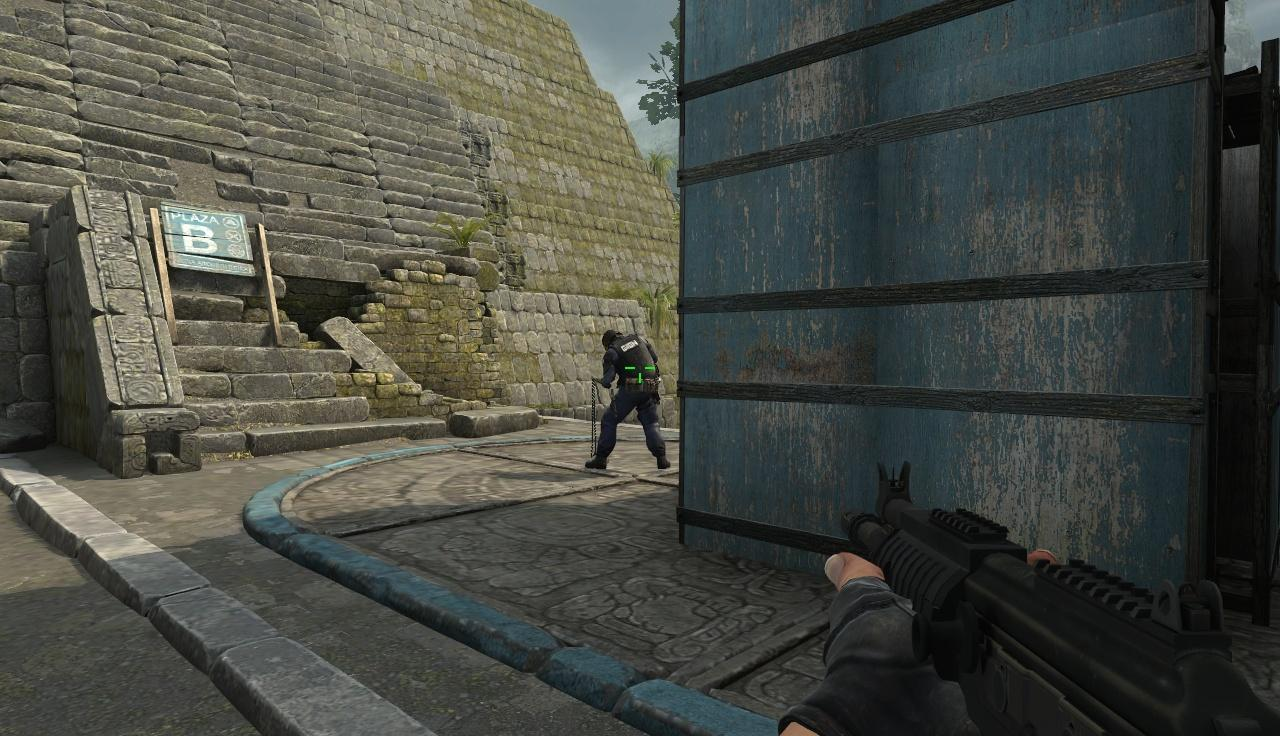ct: (596, 325, 660, 476)
cthead: (603, 327, 626, 351)
rifle: (839, 465, 1280, 736)
